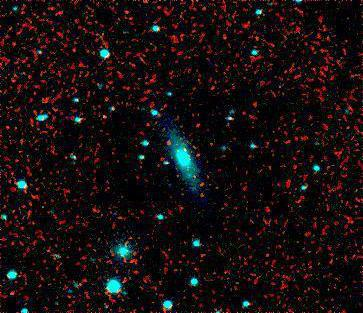star: (30, 85, 60, 115)
